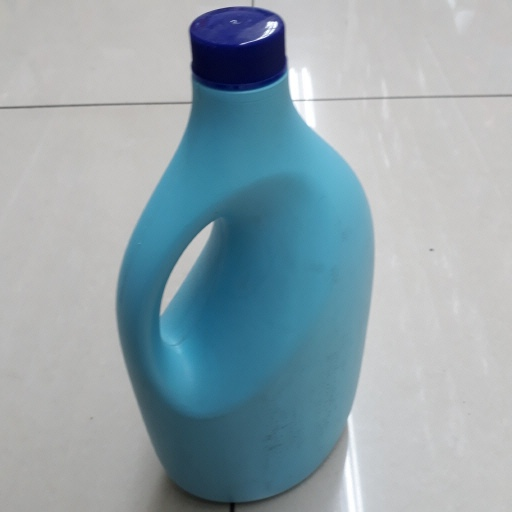Plastic_1: (117, 8, 374, 504)
